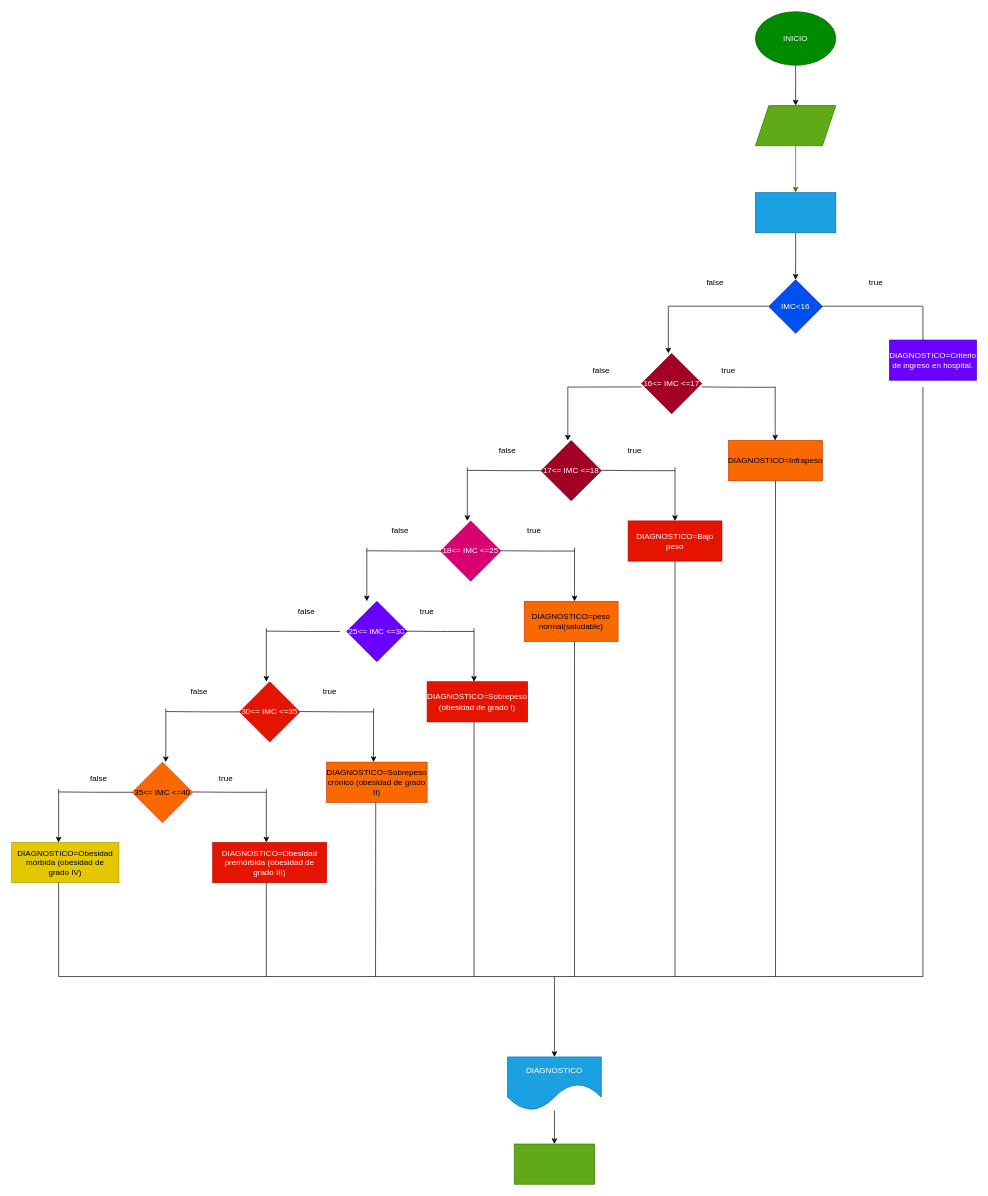
Image size: 988x1196. Some labels were removed from this diagram. The shapes that lost their labels are listed below. From the top down, each one's centre as x and y in pixels, then its label:
the point at 795,125: p=peso a=altura
the point at 795,212: IMC=peso[kg] / altura**2 [m])
the point at 554,1163: FIN
